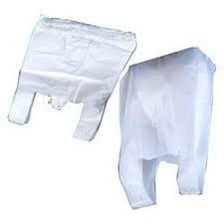plastic_bag: (112, 44, 224, 215), (4, 10, 143, 145)
